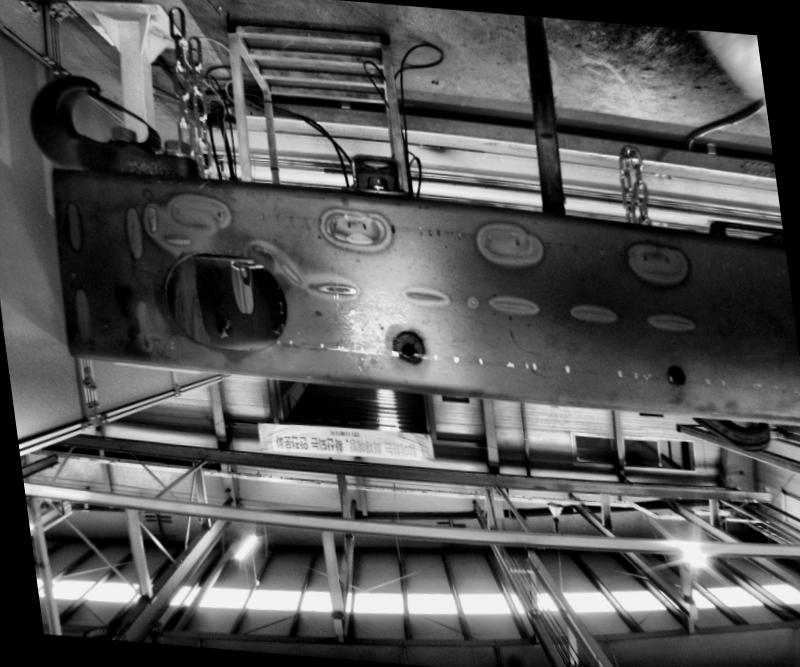bolt: (360, 171, 388, 189)
bracket: (324, 139, 422, 193)
hole: (144, 244, 293, 353), (396, 336, 416, 355), (666, 363, 684, 382)
